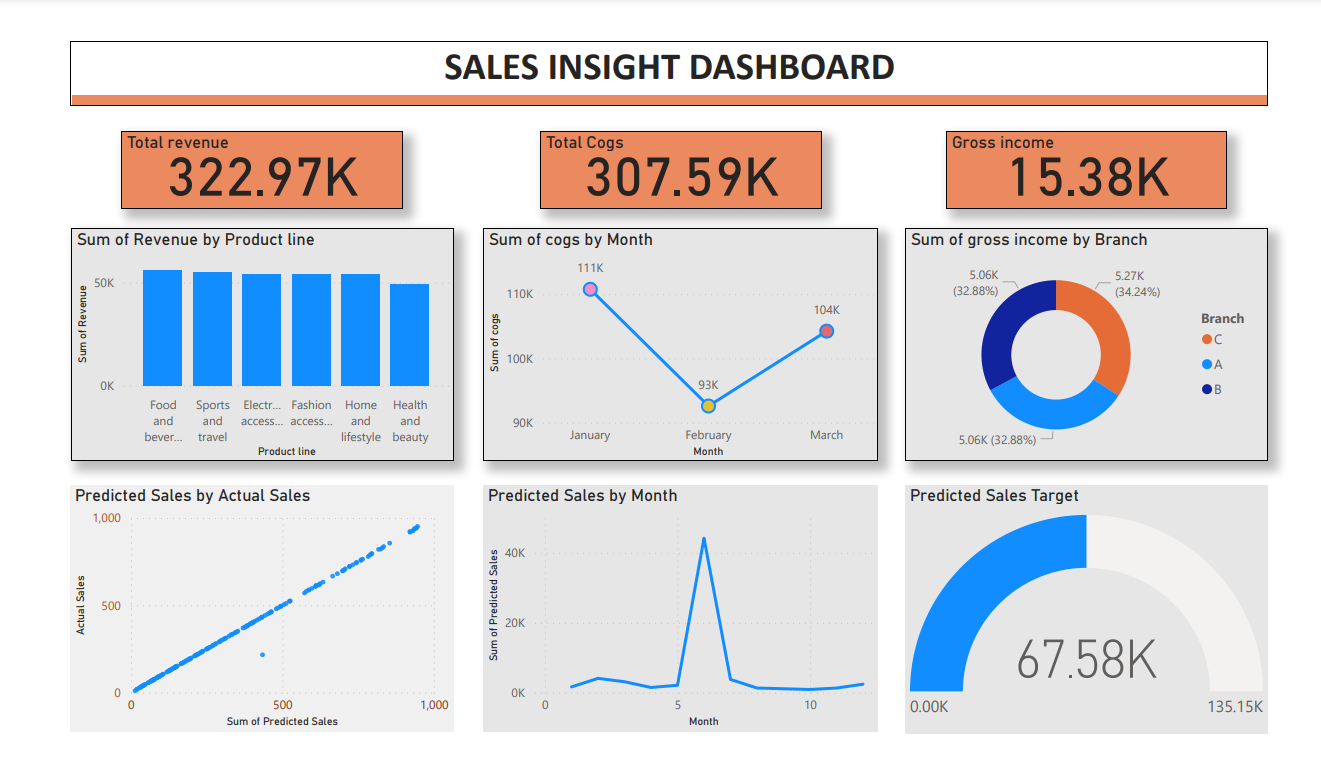

This screenshot's page, from the dashboard's own definition file:
{"tool":"powerbi","page":{"name":"Page 1","canvas":[1280,720],"ordinal":0},"visuals":[{"type":"card","title":"Total revenue","fields":{"Values":["Sum(supermarket_sales_modified.Revenue)"]},"box":[101.4,110.4,281.4,77.2],"z":0},{"type":"card","title":"Total Cogs","fields":{"Values":["Sum(supermarket_sales_modified.cogs)"]},"box":[520.5,110.4,281.4,77.2],"z":1000},{"type":"card","title":"Gross income","fields":{"Values":["Sum(supermarket_sales_modified.gross income)"]},"box":[926,110.4,281.4,77.2],"z":2000},{"type":"clusteredColumnChart","fields":{"Category":["supermarket_sales_modified.Product line"],"Y":["Sum(supermarket_sales_modified.Revenue)"]},"box":[51.4,207.3,388.8,233],"z":3000},{"type":"lineChart","fields":{"Category":["supermarket_sales_modified.Date.Variation.Date Hierarchy.Month"],"Y":["Sum(supermarket_sales_modified.cogs)"]},"box":[463,207.3,394.9,233],"z":4000},{"type":"scatterChart","title":"Predicted Sales by Actual Sales","fields":{"Y":["predicted_sales_dataset.Actual Sales"],"X":["Sum(predicted_sales_dataset.Predicted Sales)"]},"box":[49.9,464.5,384.3,246.6],"z":5000},{"type":"lineChart","title":"Predicted Sales by Month","fields":{"Category":["predicted_sales_dataset.Month"],"Y":["Sum(predicted_sales_dataset.Predicted Sales)"]},"box":[463,464.5,394.9,246.6],"z":7000},{"type":"donutChart","fields":{"Category":["supermarket_sales_modified.Branch"],"Y":["Sum(supermarket_sales_modified.gross income)"]},"box":[885.1,207.3,363.1,233],"z":8000},{"type":"gauge","title":" Predicted Sales Target","fields":{"Y":["Sum(predicted_sales_dataset.Predicted Sales)"]},"box":[885.1,464.5,363.1,248.1],"z":9000},{"type":"shape","title":"SALES INSIGHT DASHBOARD ","box":[49.9,19.7,1198.3,65.1],"z":10000}]}

Visuals, with their boxes in screenshot pixels (x1, y1, x2, y2), scaled from the page's 1280x720 canvas onto the 1321x762 screenshot:
"Total revenue" card: (left=105, top=117, right=395, bottom=199)
"Total Cogs" card: (left=537, top=117, right=828, bottom=199)
"Gross income" card: (left=956, top=117, right=1246, bottom=199)
clusteredColumnChart - supermarket_sales_modified.Product line x Sum(supermarket_sales_modified.Revenue): (left=53, top=219, right=454, bottom=466)
lineChart - supermarket_sales_modified.Date.Variation.Date Hierarchy.Month x Sum(supermarket_sales_modified.cogs): (left=478, top=219, right=885, bottom=466)
"Predicted Sales by Actual Sales" scatterChart: (left=51, top=492, right=448, bottom=753)
"Predicted Sales by Month" lineChart: (left=478, top=492, right=885, bottom=753)
donutChart - supermarket_sales_modified.Branch x Sum(supermarket_sales_modified.gross income): (left=913, top=219, right=1288, bottom=466)
" Predicted Sales Target" gauge: (left=913, top=492, right=1288, bottom=754)
"SALES INSIGHT DASHBOARD " shape: (left=51, top=21, right=1288, bottom=90)
